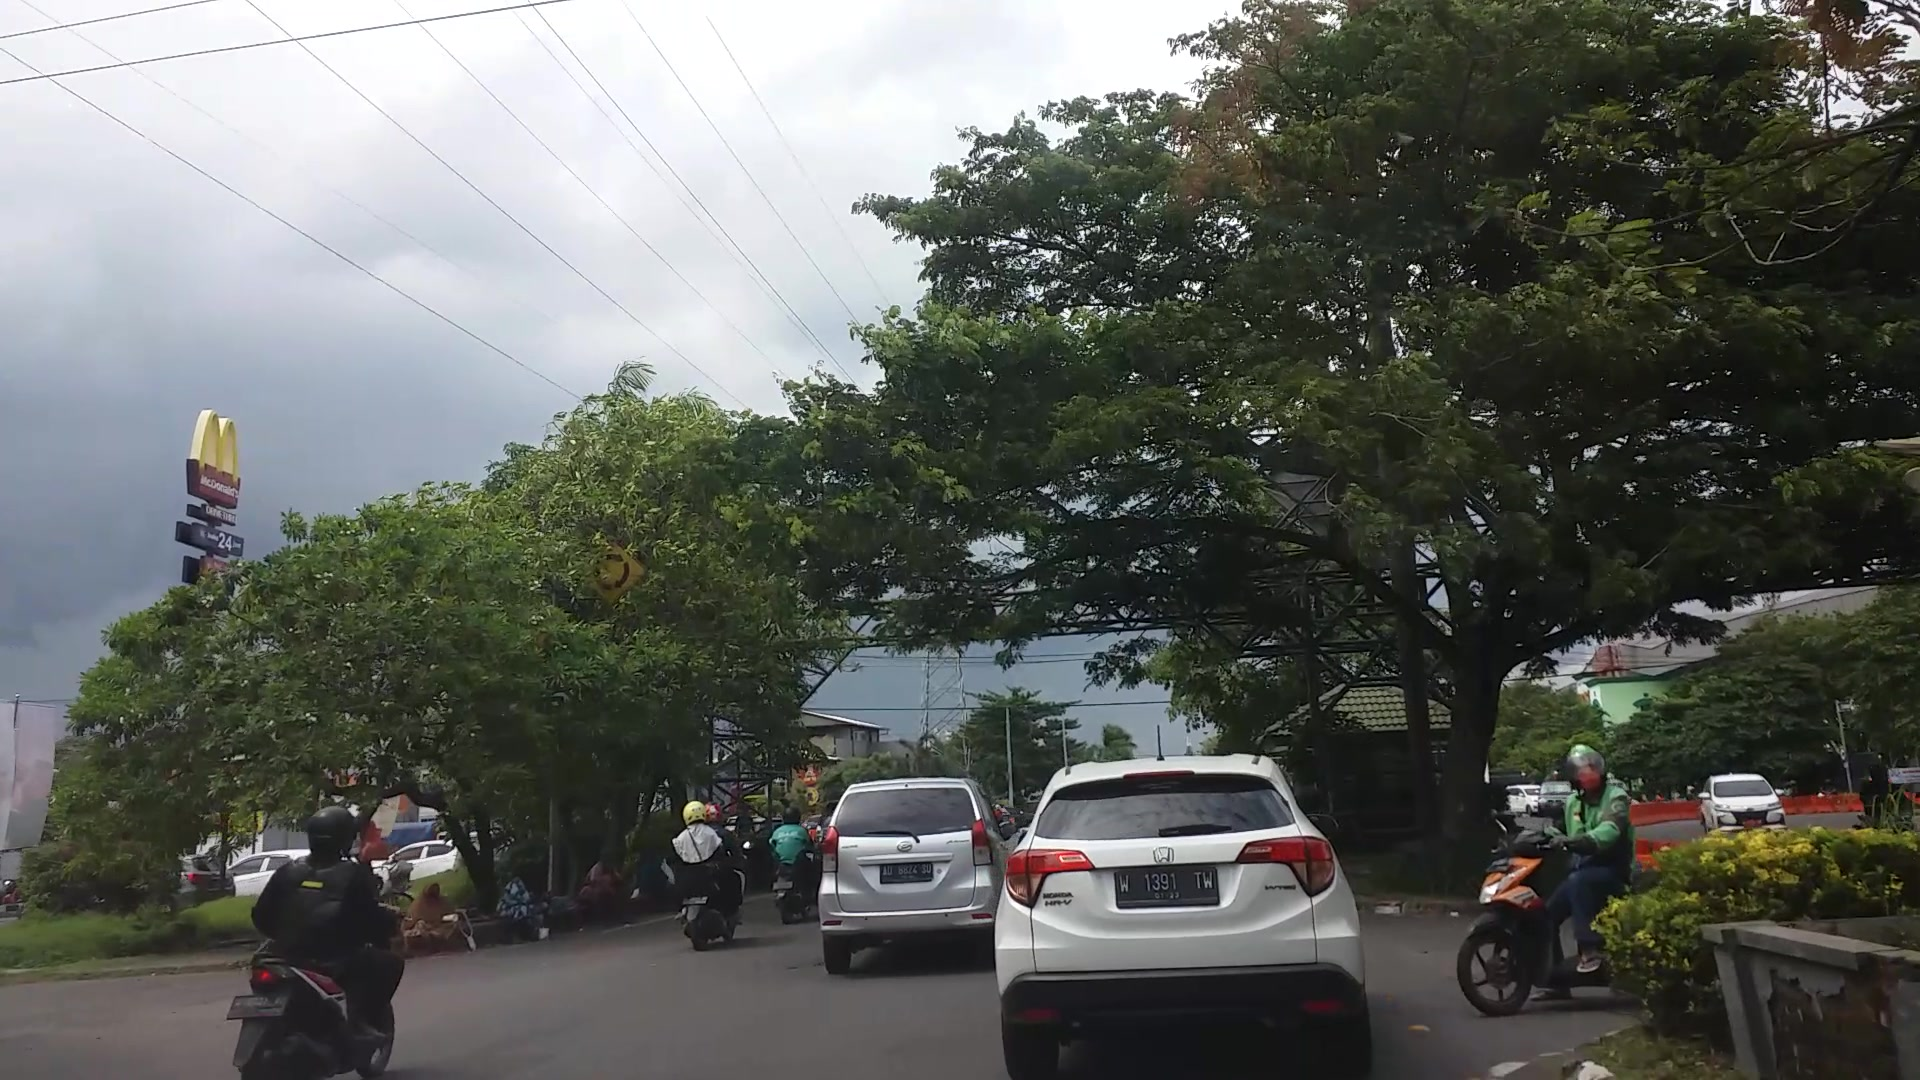plate_positive: (1116, 866, 1218, 907)
